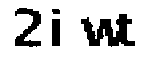2: (10, 4, 46, 53)
i: (51, 4, 66, 50)
t: (116, 6, 140, 48)
w: (80, 13, 119, 49)
